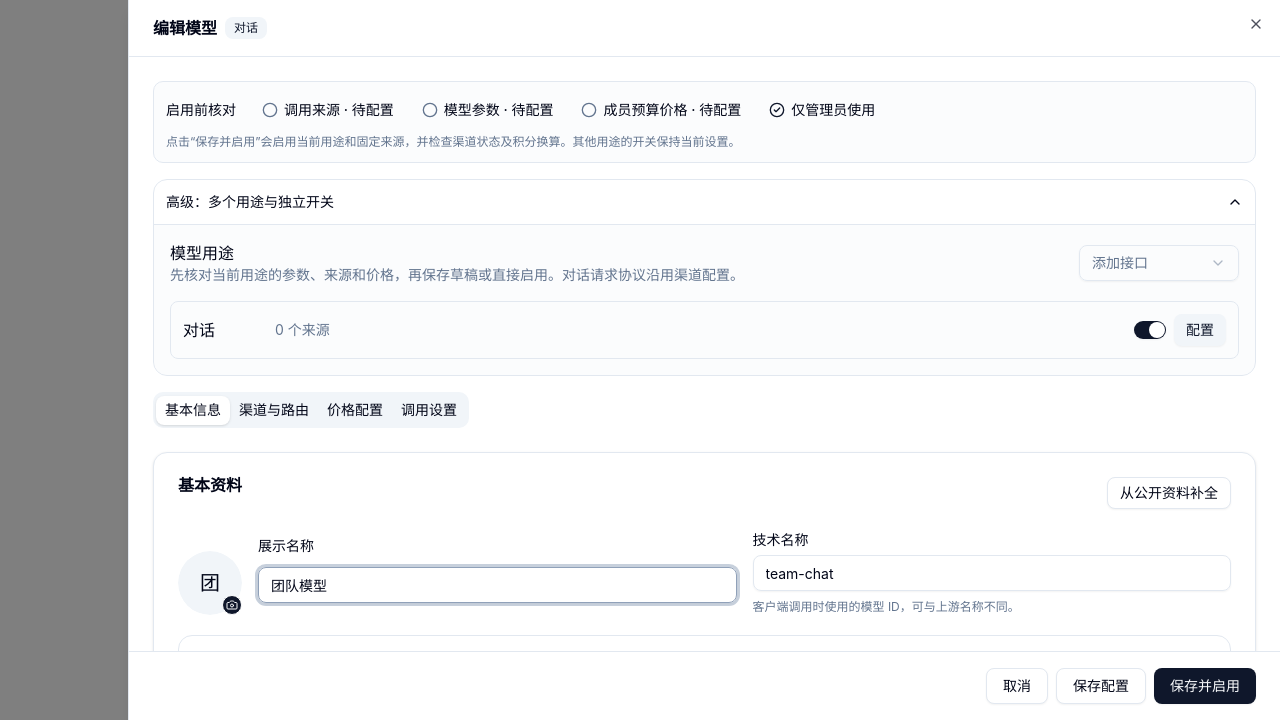
Test case: stops further writes after a permission loss
Replace the text in the field labelled "展示名称" with "新名称" at (497, 585), box x1=258 y1=567 x2=736 y2=603
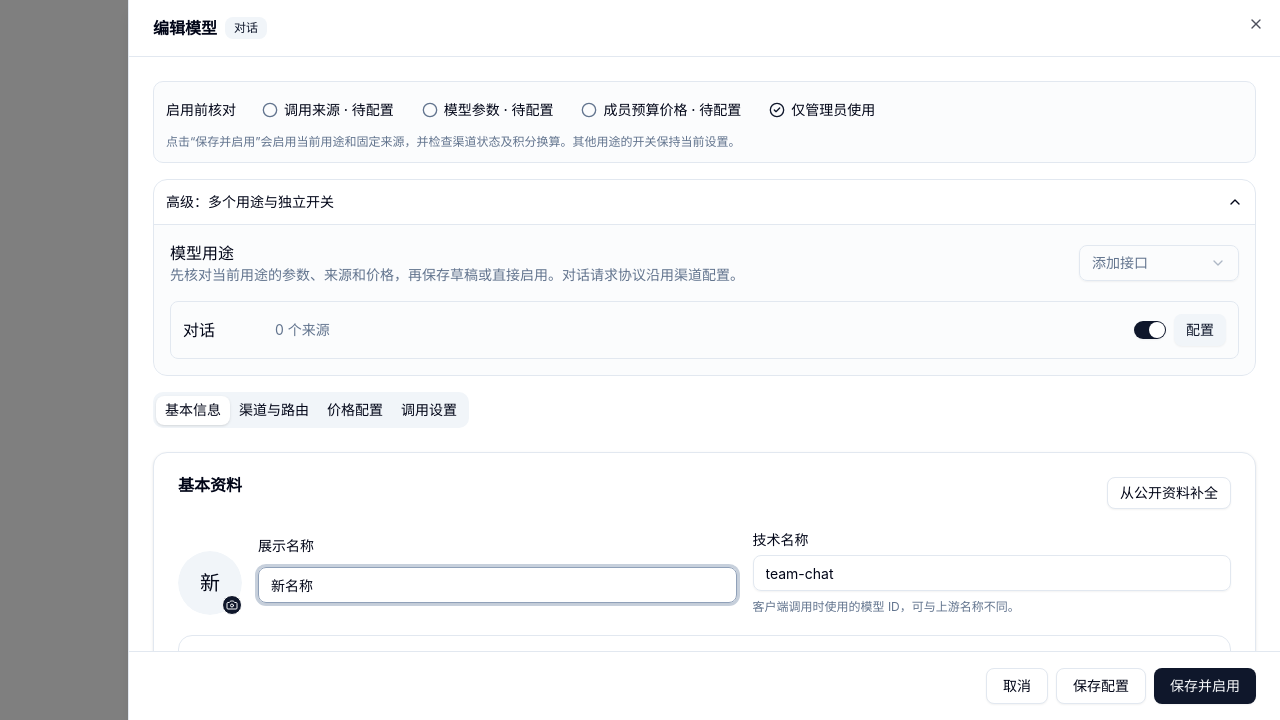
Click the button "保存配置" at (1101, 686), box x1=1056 y1=668 x2=1146 y2=704
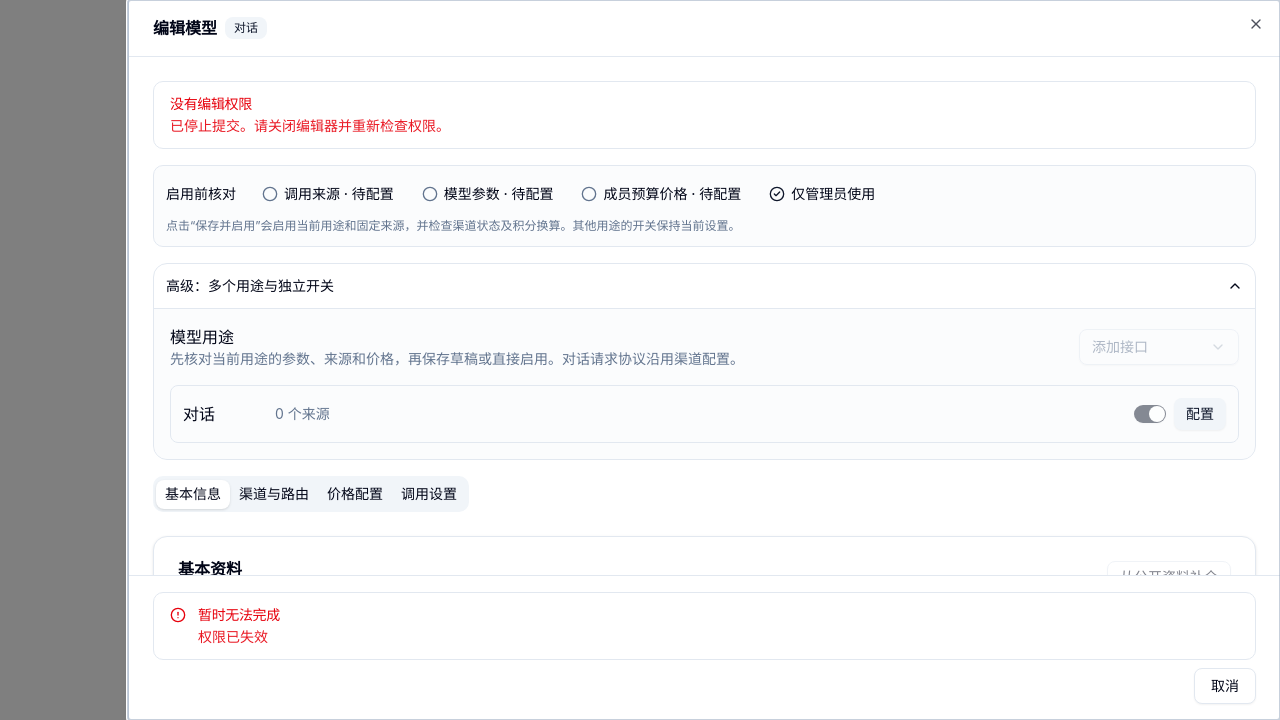
Expected: the text "没有编辑权限" is shown, x1=170 y1=95 x2=252 y2=112
